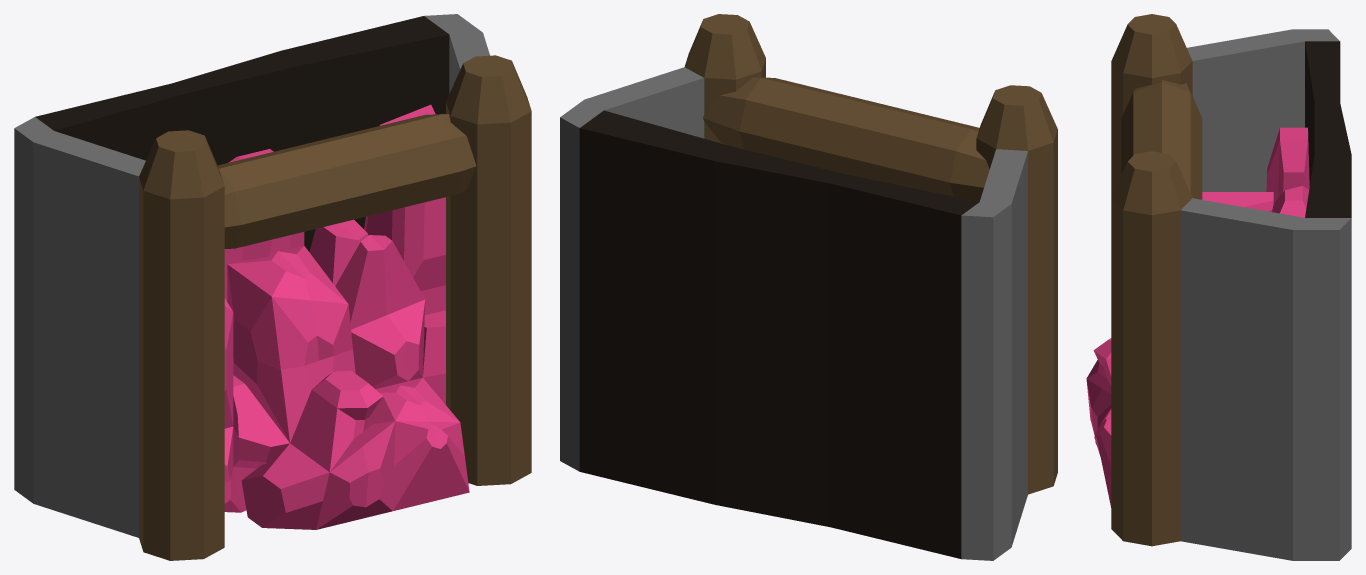
The model's file is Mine(Pink).fbx.
3 renders of one model, left to right at view 1: azimuth 30°, elevation 25°; view 2: azimuth 150°, elevation 25°; view 3: azimuth 270°, elevation 25°, orthographic. The views are drawn at different scales.
Parts seen in each view (by area): view 1: PinkMine; view 2: PinkMine; view 3: PinkMine.
Boxes of the visible parts, bbox=[...] form: PinkMine: bbox=[14, 14, 531, 560]; PinkMine: bbox=[560, 14, 1057, 560]; PinkMine: bbox=[1086, 14, 1351, 560].
Size of the model in its own units: 1171 by 1000 by 653.
